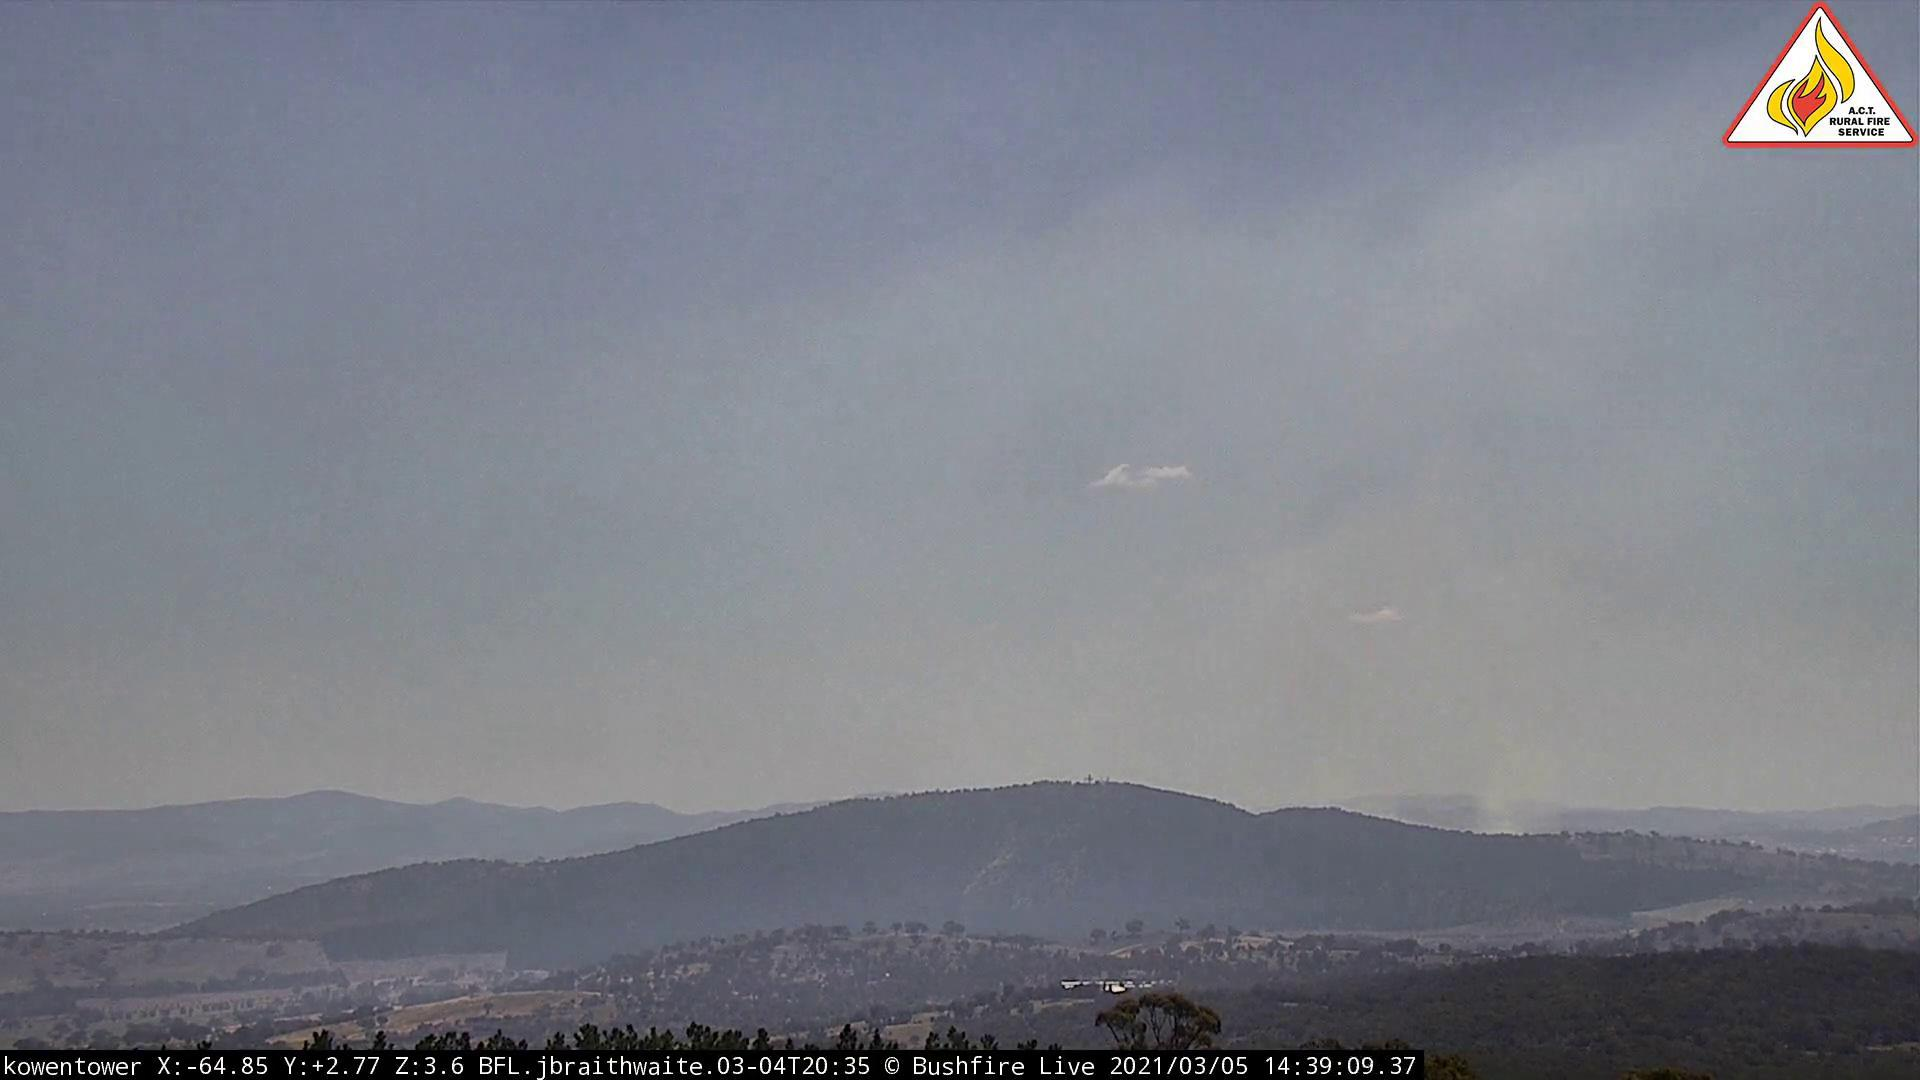Smoke: (1320, 509, 1650, 848)
